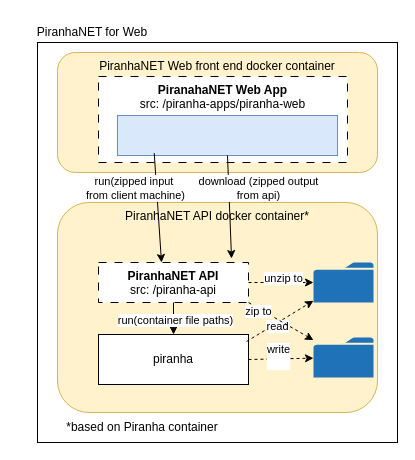
This 415x460 diagram has some shape labels left out. Here are the shapes that lost their labels. From the top down, the centre of each, then its label:
At pixel 227 135: "svelte web app src: /piranha-apps/svelte-app".
At pixel 343 282: "Input files".
At pixel 343 357: "Output files".
